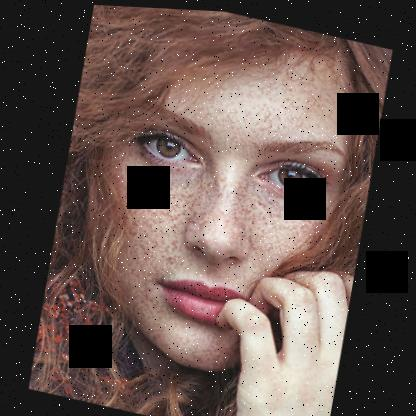Female: (59, 2, 366, 393)
